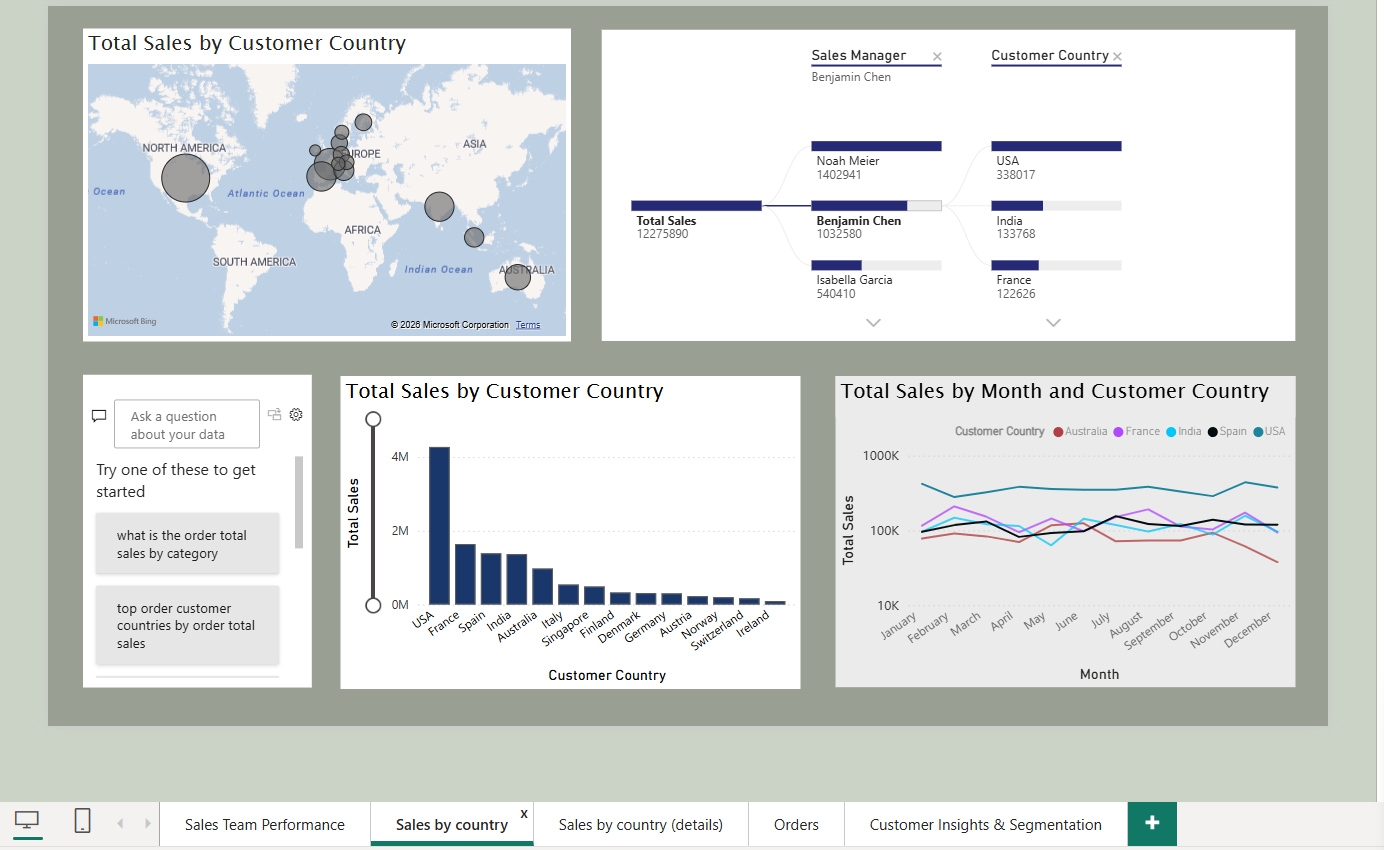

Layout of this report page (visuals, bound fields, positions):
{"tool":"powerbi","page":{"name":"Sales by country","canvas":[1280,720],"ordinal":1},"visuals":[{"type":"map","fields":{"Size":["Orders.Total Sales"],"Category":["Orders.Customer Country"]},"box":[35,22.5,487.5,312.5],"z":0},{"type":"lineChart","fields":{"Category":["Orders.Order Datetime.Variation.Date Hierarchy.Month"],"Y":["Orders.Total Sales"],"Series":["Orders.Customer Country"]},"box":[787.5,370,460,311.2],"z":1000},{"type":"clusteredColumnChart","fields":{"Category":["Orders.Customer Country"],"Y":["Orders.Total Sales"]},"box":[292.5,370,460,312.5],"z":2000},{"type":"qnaVisual","box":[35,368.8,228.8,312.5],"z":3000},{"type":"decompositionTreeVisual","fields":{"Analyze":["Orders.Total Sales"],"ExplainBy":["Orders.Sales Manager","Orders.Customer Country"]},"box":[553.8,23.8,693.8,311.2],"z":4000}]}

Visuals, with their boxes on the page's 1280x720 design canvas (x1, y1, x2, y2). These are canvas units, not pixel positions in the 1384x850 screenshot, which may show the page scaled, cropped or inside an application window:
map - Orders.Total Sales x Orders.Customer Country: 35:22:522:335
lineChart - Orders.Order Datetime.Variation.Date Hierarchy.Month x Orders.Total Sales: 788:370:1248:681
clusteredColumnChart - Orders.Customer Country x Orders.Total Sales: 292:370:752:682
qnaVisual: 35:369:264:681
decompositionTreeVisual - Orders.Total Sales x Orders.Sales Manager: 554:24:1248:335
